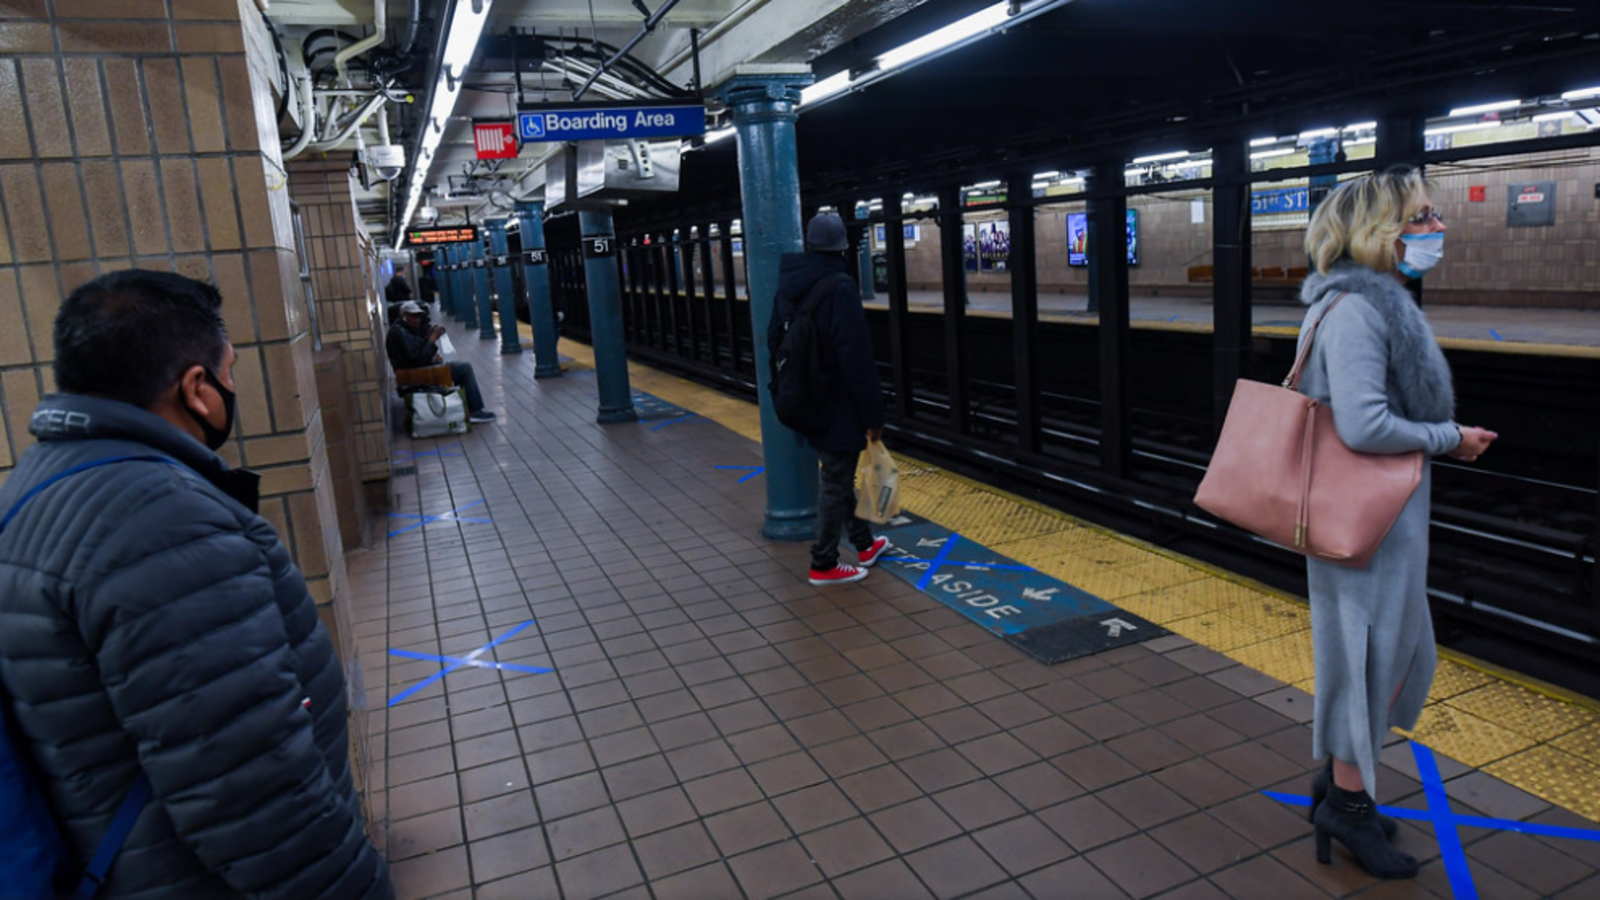Good: (23, 167, 1495, 892), (51, 207, 915, 892), (773, 142, 1480, 884), (65, 251, 479, 900)
